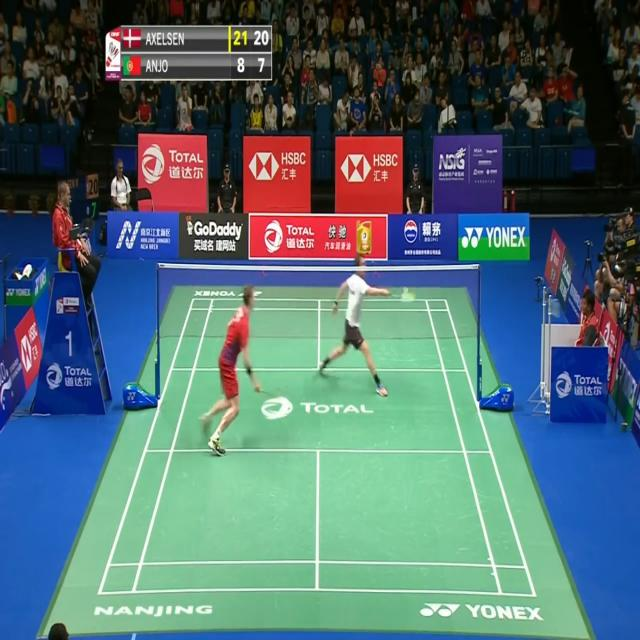Player1: (192, 278, 282, 463)
Player2: (312, 248, 418, 399)
